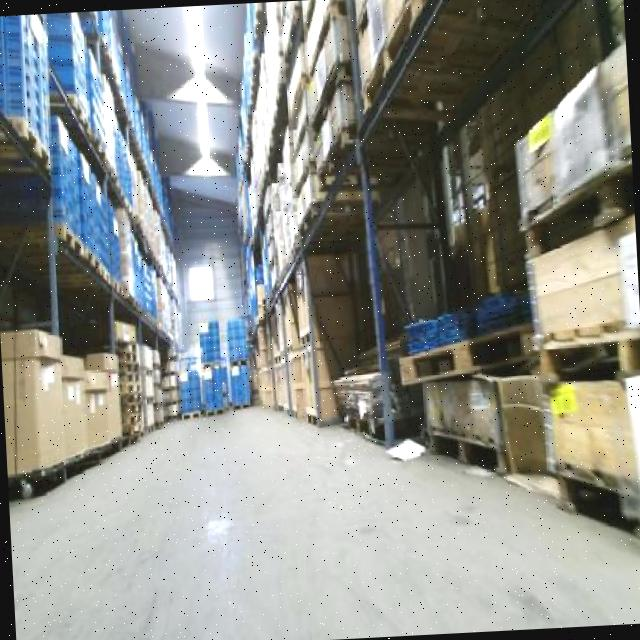pallet: (422, 429, 510, 482), (10, 110, 58, 182), (53, 223, 89, 261), (179, 409, 204, 426), (228, 401, 255, 416), (203, 406, 227, 421)
